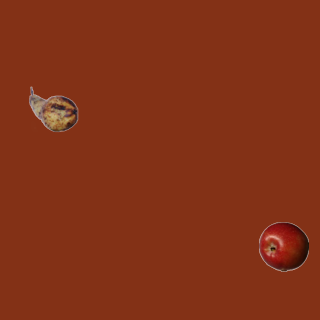Apple Braeburn: (258, 221, 308, 271)
Pear Abate: (28, 84, 78, 134)
